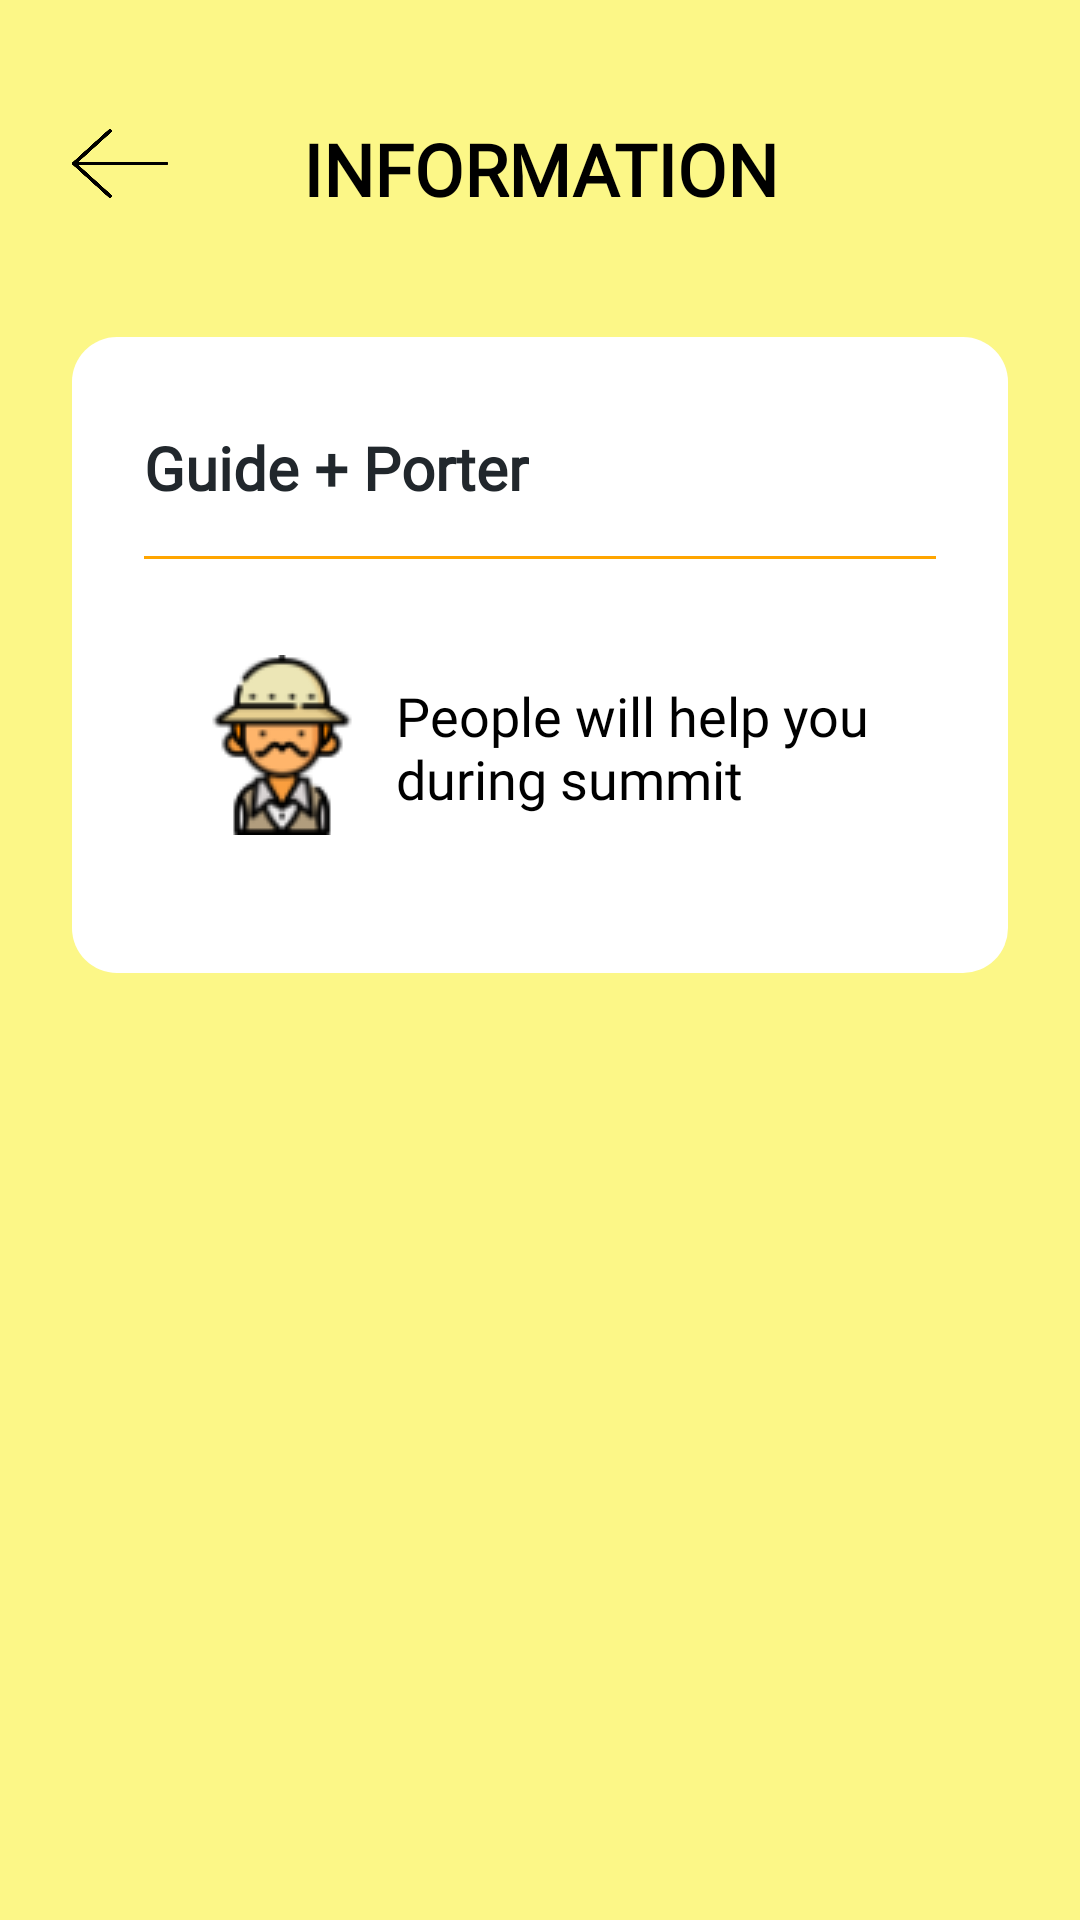

Named icons in this screenshot (1080*1920) and their bounding boxes, (x1, y1, x2, y2):
buttonback: (72, 129, 168, 198)
